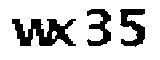3: (84, 7, 111, 48)
5: (116, 7, 149, 50)
w: (9, 16, 54, 50)
x: (52, 18, 77, 47)
